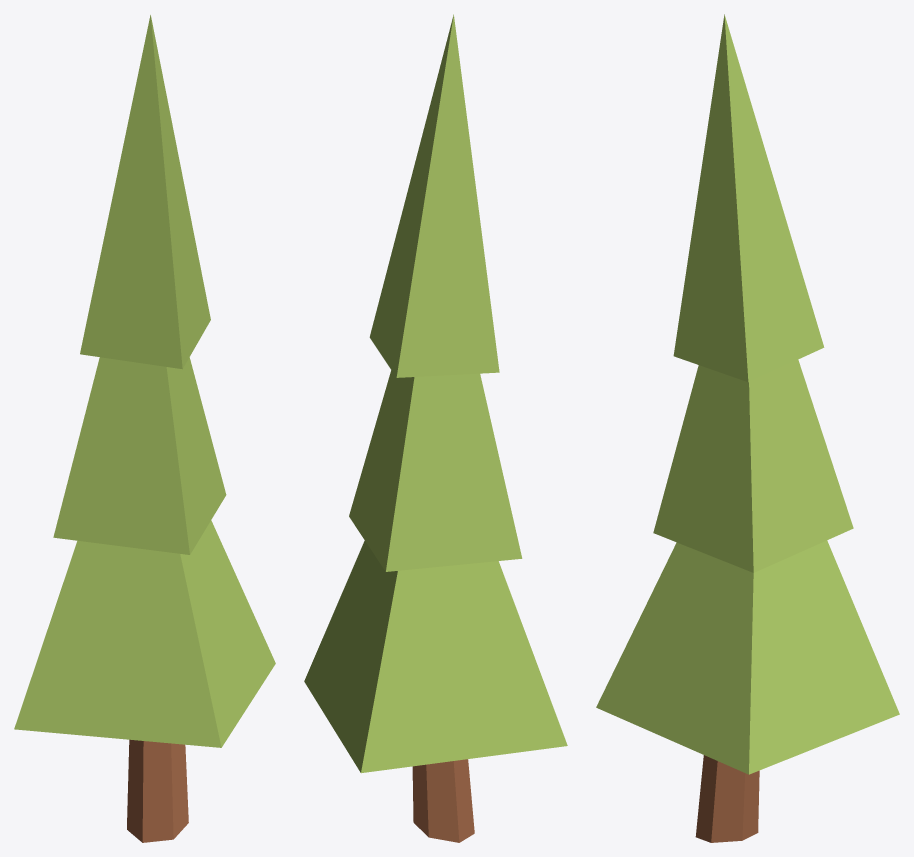
Rendered from Tree_3.fbx.
3 renders of one model, left to right at view 1: azimuth 30°, elevation 25°; view 2: azimuth 150°, elevation 25°; view 3: azimuth 270°, elevation 25°, orthographic.
Parts seen in each view (by area): view 1: Cone; view 2: Cone; view 3: Cone.
Part boxes in pixels (left/top/right/bottom): Cone: left=14, top=15, right=275, bottom=842; Cone: left=304, top=14, right=567, bottom=842; Cone: left=596, top=14, right=899, bottom=842.
Bounding box in the file's own units: 164 × 491 × 164.
